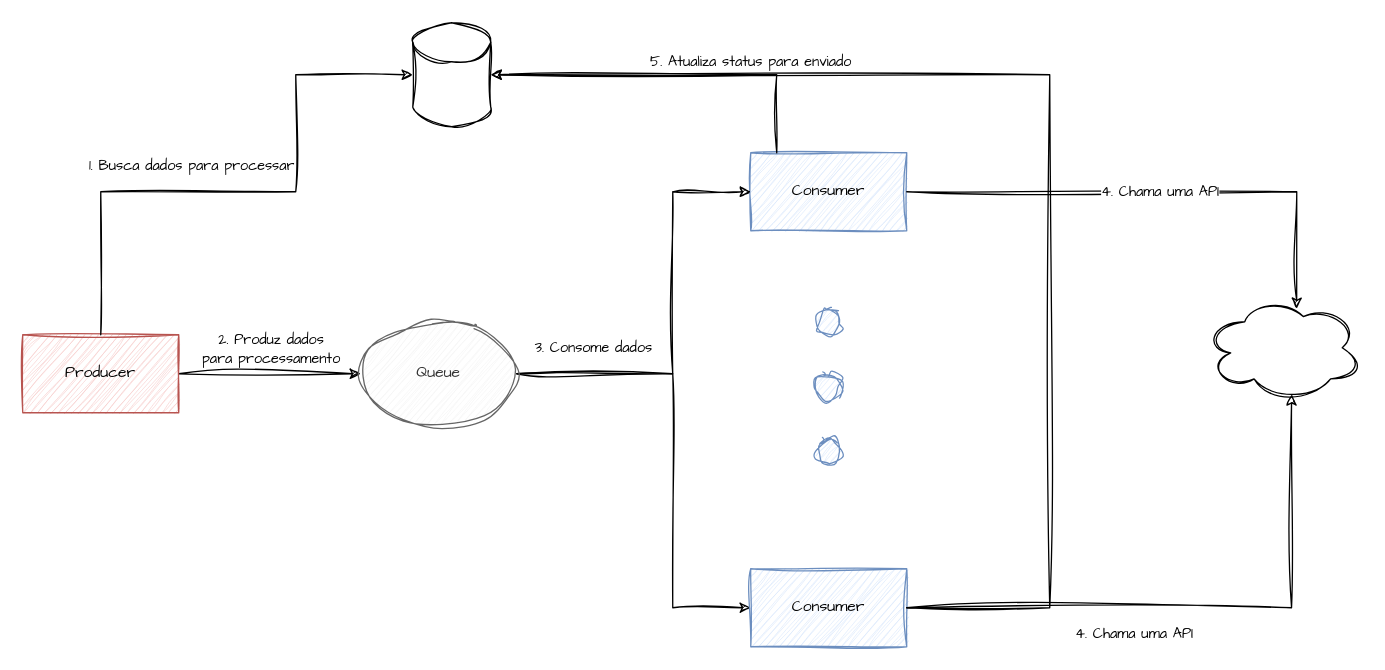
Image size: 1385x670. Some labels were removed from this diagram. The centre of each missing label's shape, as x and y in pixels:
DB: the point at 451,74
Other service: the point at 1283,347
